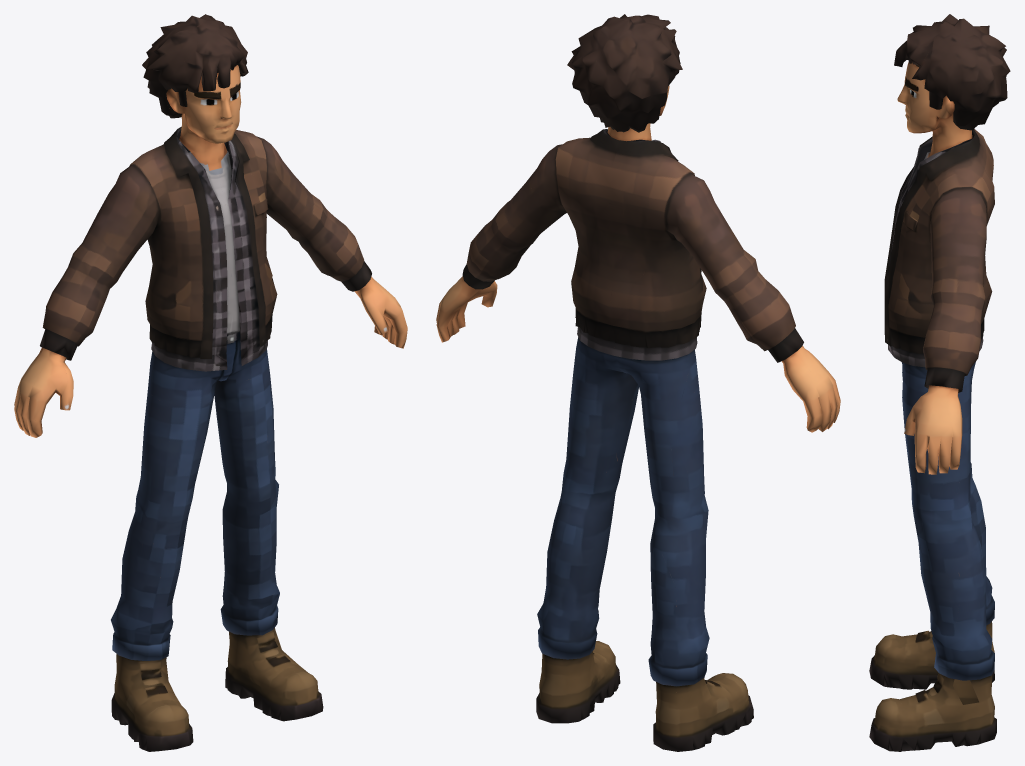
The model's file is bomber.glb.
The picture shows the model from 3 angles, left to right: view 1: azimuth 30°, elevation 25°; view 2: azimuth 150°, elevation 25°; view 3: azimuth 270°, elevation 25°; orthographic projection. The views are drawn at different scales.
Parts seen in each view (by area): view 1: geometry_0; view 2: geometry_0; view 3: geometry_0.
Boxes of the visible parts, x1,y1,x2,y2 form: geometry_0: (14, 14, 407, 751); geometry_0: (436, 14, 840, 751); geometry_0: (869, 14, 1010, 751).
Size of the model in its own units: 0.5503 by 0.9517 by 0.1768.
1 material, 1 textured.
